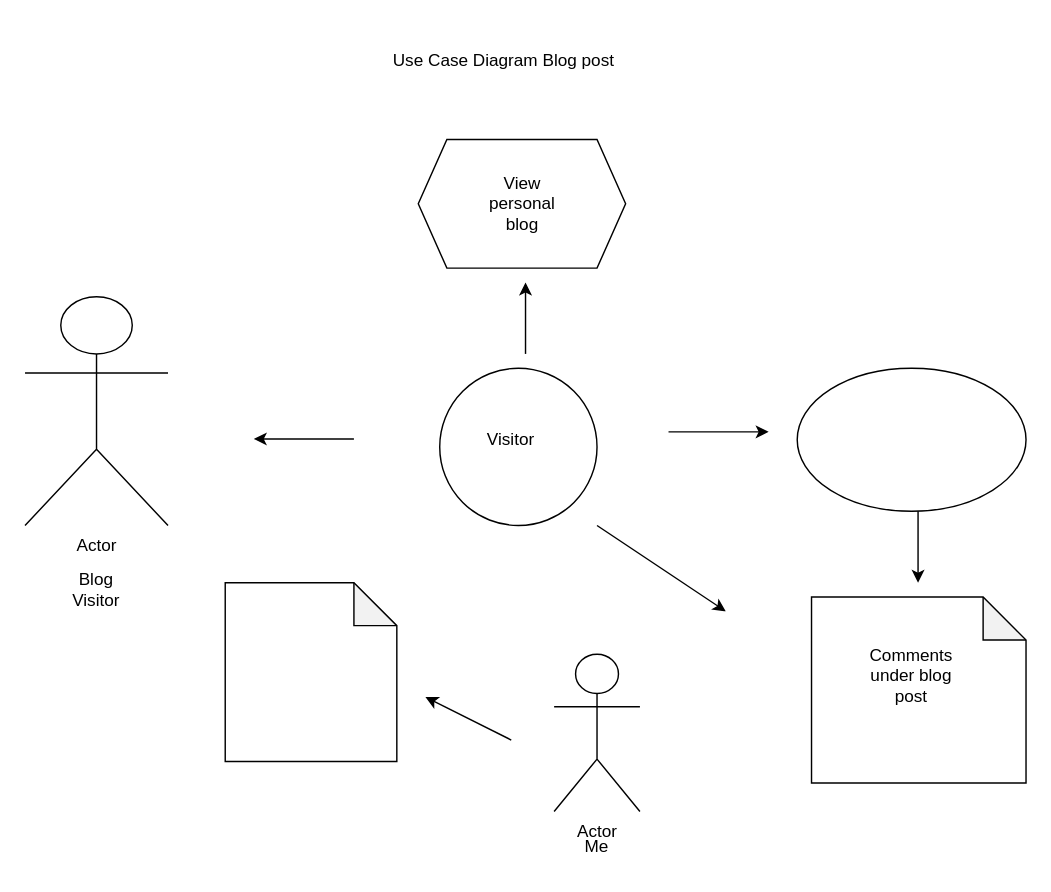
This 1051x892 diagram has some shape labels left out. The shapes that lost their labels are listed below. From the top down, each one's centre as x and y in pixels, then its label:
At (911,439): "Likes blog post".
At (310,671): "Replies to visitor".
